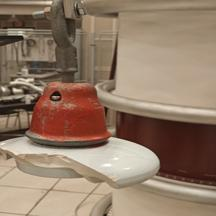insulator: (0, 75, 169, 197)
